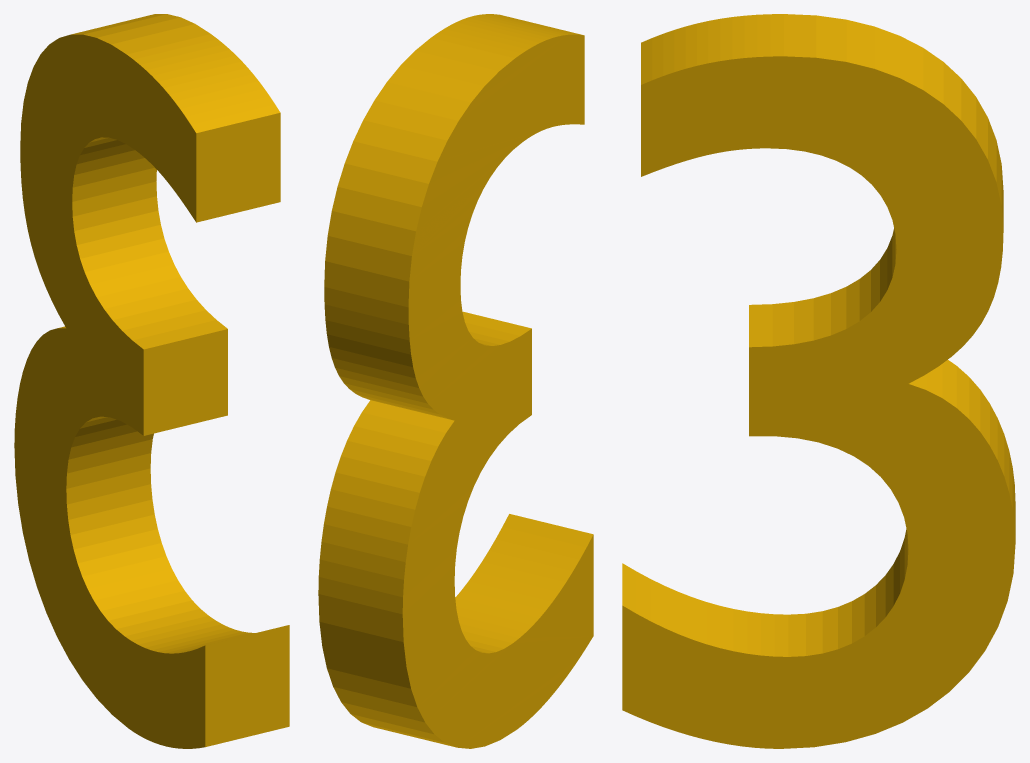
Rendered from number(3).fbx.
3 views of the same model, side by side, from view 1: azimuth 30°, elevation 25°; view 2: azimuth 150°, elevation 25°; view 3: azimuth 270°, elevation 25° (orthographic). The views are drawn at different scales.
Visible parts, largest first — view 1: Text; view 2: Text; view 3: Text.
Boxes of the visible parts, x1,y1,x2,y2 form: Text: (14, 14, 289, 748); Text: (318, 14, 593, 748); Text: (622, 14, 1015, 748).
Bounding box in the file's own units: 9.18 × 70 × 36.
